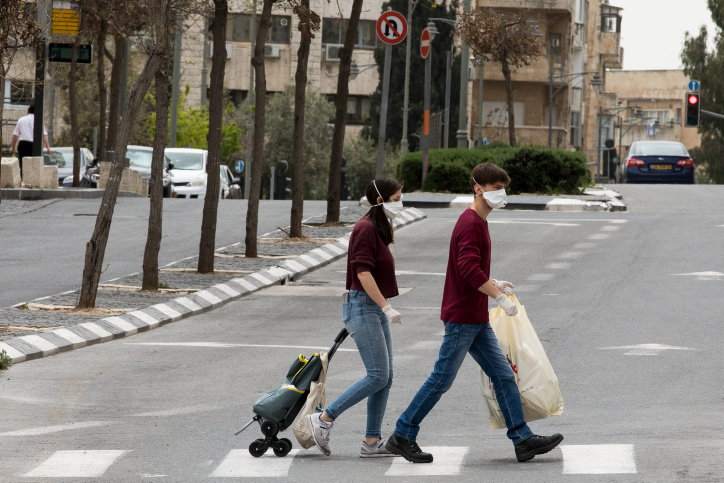person: (383, 158, 586, 468), (308, 166, 406, 463)
